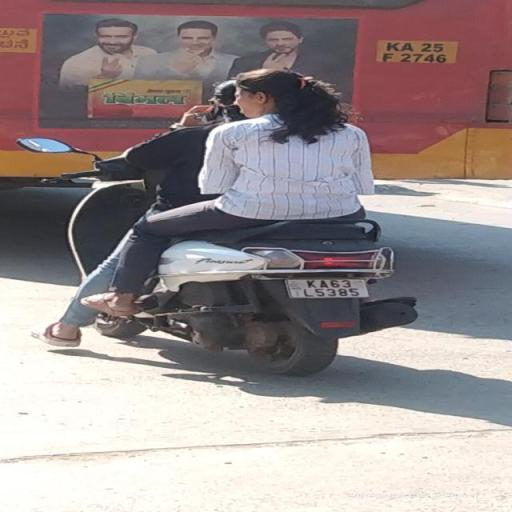bike: (8, 65, 433, 381)
numberplate: (284, 276, 372, 302)
using mobile: (187, 102, 226, 126)
withouthelmet: (235, 70, 319, 120), (214, 79, 238, 125)
